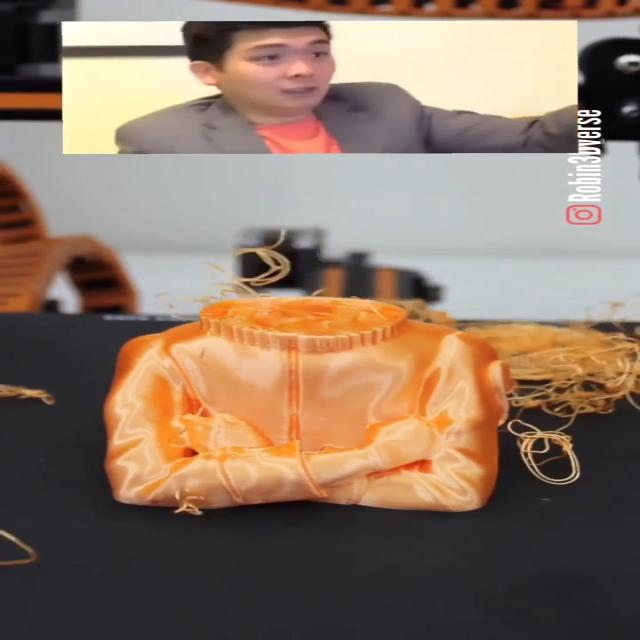spaghetti: (438, 292, 640, 496), (204, 238, 316, 318), (0, 376, 74, 412), (0, 525, 47, 580)
